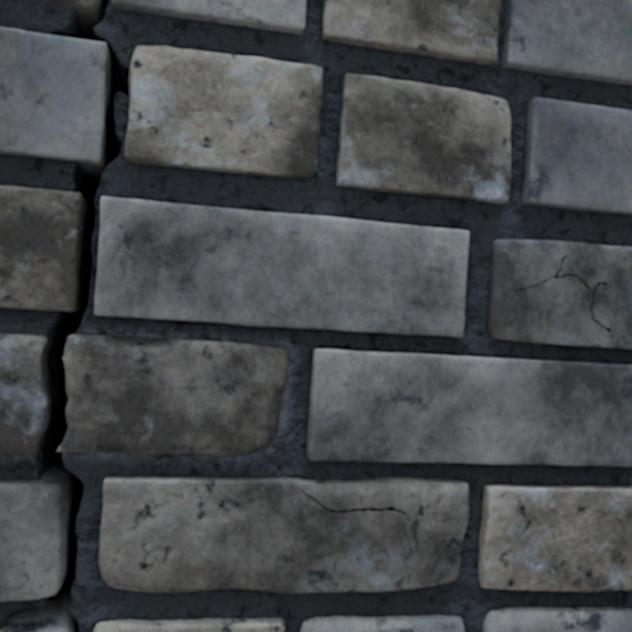brick: (95, 197, 468, 336), (99, 477, 467, 592), (307, 349, 631, 466), (125, 46, 321, 177), (336, 74, 510, 203), (478, 485, 631, 591), (486, 240, 631, 348), (0, 27, 107, 162), (523, 98, 631, 213), (323, 0, 500, 64), (503, 0, 631, 84), (0, 186, 80, 310), (0, 481, 64, 600), (112, 0, 305, 33), (483, 607, 631, 631), (301, 615, 463, 631), (94, 618, 283, 631), (34, 0, 96, 6), (0, 629, 66, 631)
broken_brick: (59, 333, 288, 455), (0, 332, 46, 455)
crack: (2, 0, 130, 631)
